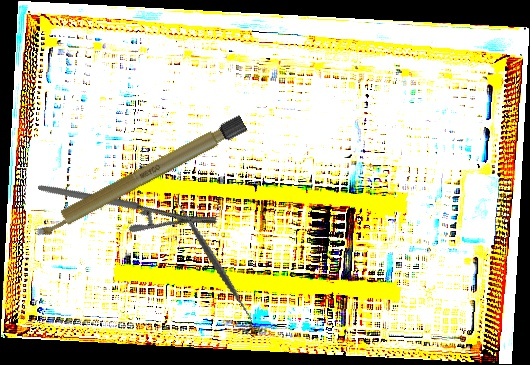Needle Holder: (37, 132, 220, 275)
Scalpel Handle: (30, 113, 248, 242)
Spatula Surgical: (145, 192, 283, 328)
